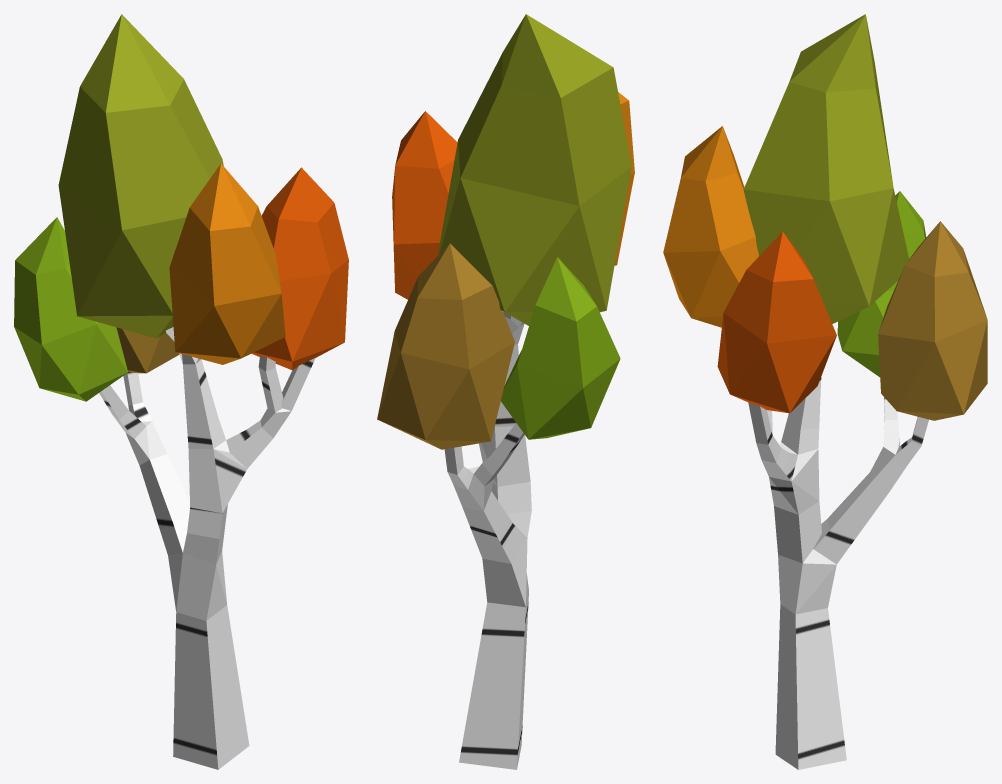
File: BirchTree_v3.fbx
3 views of the same model, side by side, from view 1: azimuth 30°, elevation 25°; view 2: azimuth 150°, elevation 25°; view 3: azimuth 270°, elevation 25° (orthographic). The views are drawn at different scales.
Parts seen in each view (by area): view 1: Leaf_v2_med, BirchTree_v3, Leaf_v2_med.002, Leaf_v1_med.001, Leaf_v2_med.001, Leaf_v1_med; view 2: Leaf_v2_med, BirchTree_v3, Leaf_v1_med, Leaf_v2_med.001, Leaf_v1_med.001, Leaf_v2_med.002; view 3: Leaf_v2_med, BirchTree_v3, Leaf_v1_med, Leaf_v1_med.001, Leaf_v2_med.002, Leaf_v2_med.001.
Boxes of the visible parts, <box> form: Leaf_v2_med: <box>58,14,223,338</box>; BirchTree_v3: <box>99,327,315,769</box>; Leaf_v2_med.002: <box>169,163,285,364</box>; Leaf_v1_med.001: <box>251,167,348,370</box>; Leaf_v2_med.001: <box>14,217,127,401</box>; Leaf_v1_med: <box>116,327,179,373</box>; Leaf_v2_med: <box>437,14,631,325</box>; BirchTree_v3: <box>444,311,531,769</box>; Leaf_v1_med: <box>377,243,514,449</box>; Leaf_v2_med.001: <box>501,257,620,439</box>; Leaf_v1_med.001: <box>392,111,457,299</box>; Leaf_v2_med.002: <box>614,92,634,265</box>; Leaf_v2_med: <box>743,14,909,323</box>; BirchTree_v3: <box>748,377,928,769</box>; Leaf_v1_med: <box>878,221,987,420</box>; Leaf_v1_med.001: <box>717,231,836,413</box>; Leaf_v2_med.002: <box>663,126,758,327</box>; Leaf_v2_med.001: <box>837,191,926,377</box>.
Size of the model in its own units: 252 by 676 by 278.
Materials: 6 (1 with a texture image).
